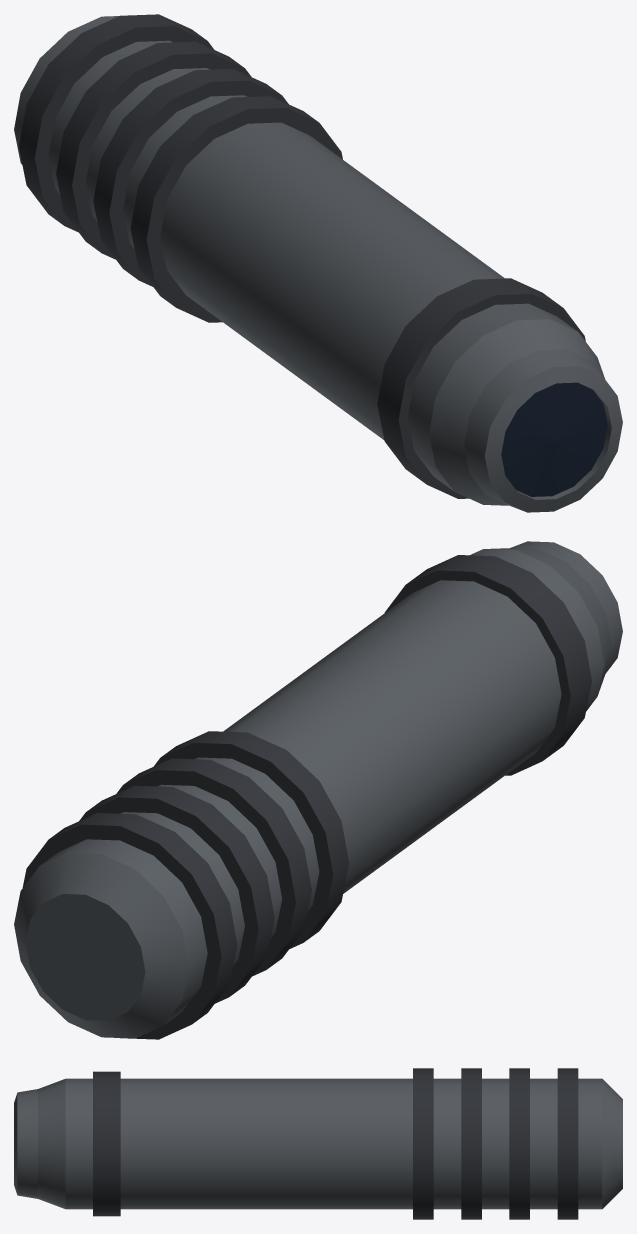
The model's file is pd1_emitter.obj.
3 renders of one model, top to bottom at view 1: azimuth 30°, elevation 25°; view 2: azimuth 150°, elevation 25°; view 3: azimuth 270°, elevation 25°, orthographic. The views are drawn at different scales.
Visible parts, largest first — view 1: pd1_emitter; view 2: pd1_emitter; view 3: pd1_emitter.
Part boxes in pixels (x1,y1,x2,y2): pd1_emitter: (14, 14, 622, 512); pd1_emitter: (14, 541, 622, 1039); pd1_emitter: (14, 1068, 622, 1219).
Size of the model in its own units: 0.44 by 0.44 by 1.77.
